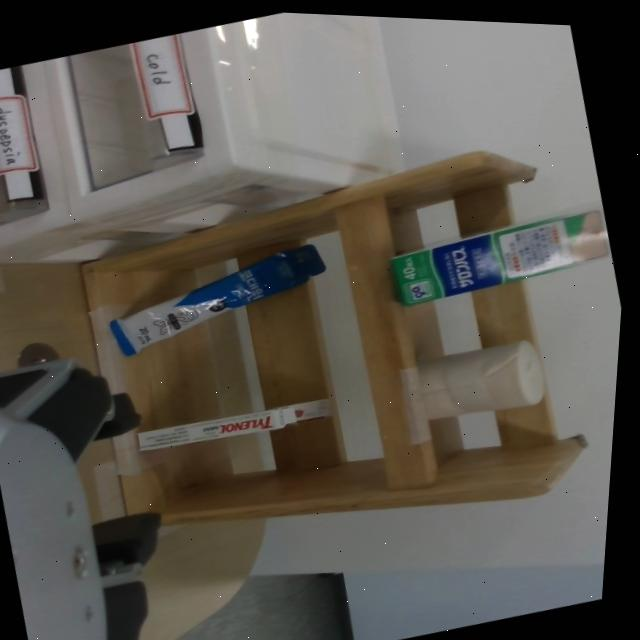bandage: (408, 332, 557, 433)
codaewon_syrup: (105, 231, 336, 366)
sore_patch: (384, 199, 617, 319)
tylenol: (122, 385, 342, 468)
